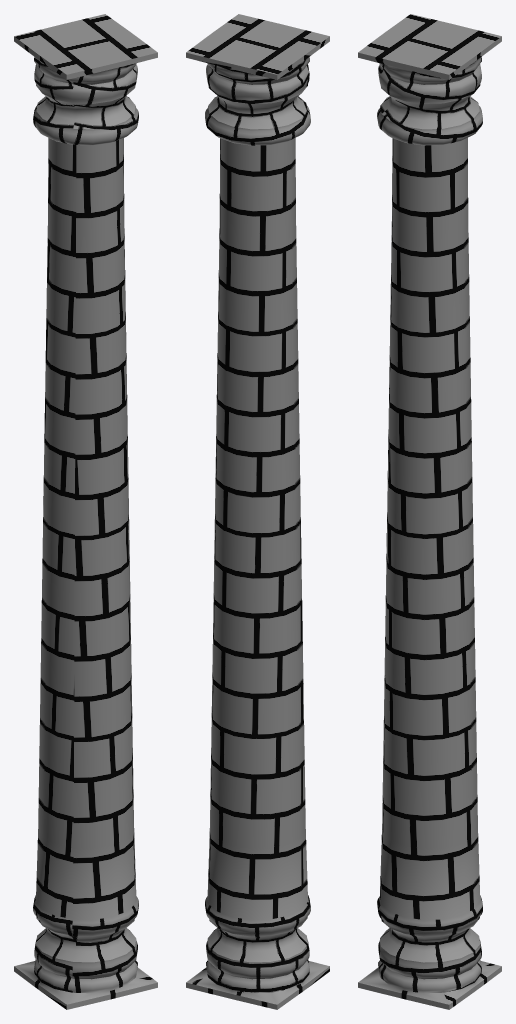
The model's file is pillar.fbx.
3 renders of one model, left to right at view 1: azimuth 30°, elevation 25°; view 2: azimuth 150°, elevation 25°; view 3: azimuth 330°, elevation 25°, orthographic.
Visible parts, largest first — view 1: Circle; view 2: Circle; view 3: Circle.
Boxes of the visible parts, x1=… form: Circle: x1=14, y1=14, x2=157, y2=1009; Circle: x1=186, y1=14, x2=329, y2=1009; Circle: x1=358, y1=14, x2=501, y2=1009.
Bounding box in the file's own units: 211 × 2035 × 211.
